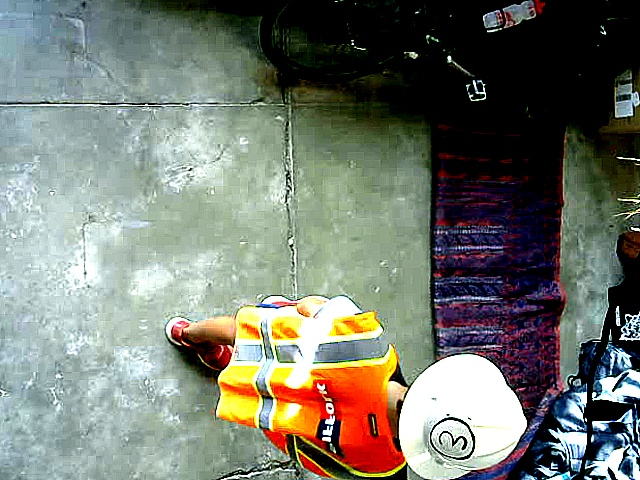three: (429, 417, 475, 459)
